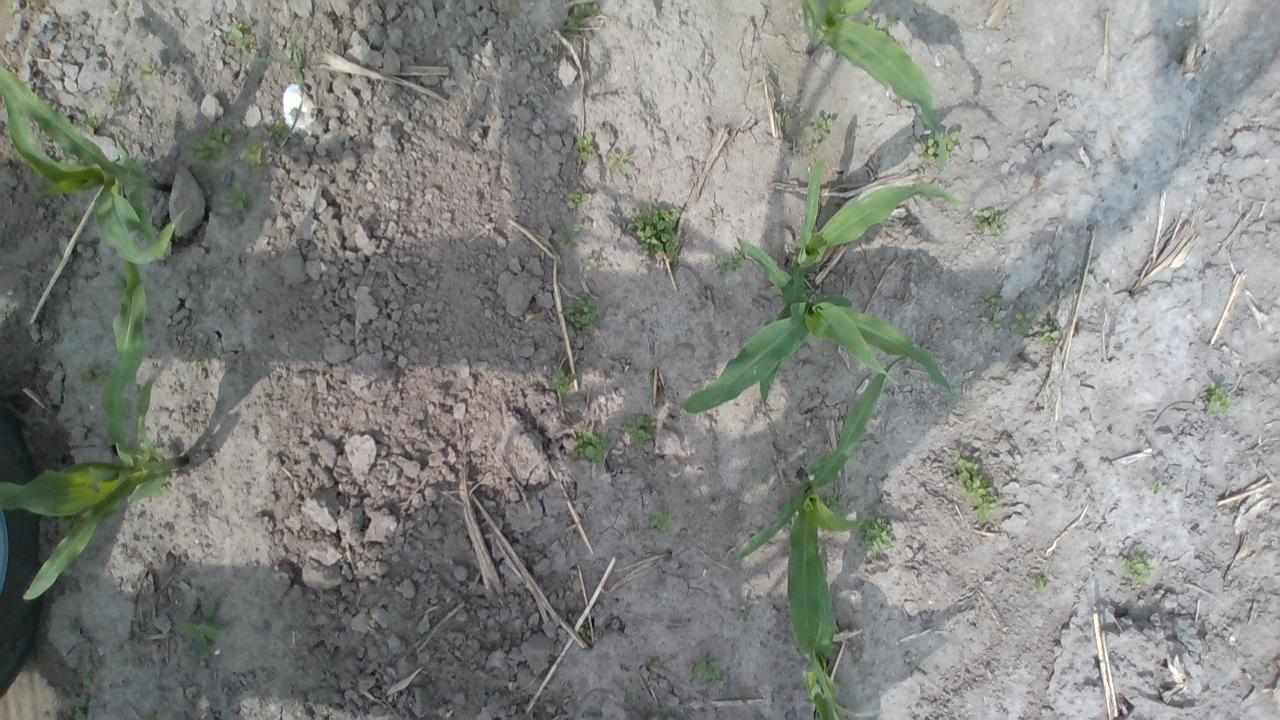Maize: (734, 355, 912, 720), (0, 261, 190, 602), (734, 154, 970, 414), (681, 228, 958, 416), (0, 62, 184, 266), (797, 0, 950, 186)
Weeds: (947, 448, 1003, 520), (622, 200, 681, 257), (174, 598, 226, 658), (185, 126, 239, 163), (856, 512, 896, 552), (1118, 546, 1156, 586), (560, 296, 603, 330), (222, 177, 258, 217), (919, 131, 961, 164), (574, 427, 610, 465), (559, 0, 598, 34), (622, 412, 658, 444), (228, 18, 258, 52), (686, 656, 721, 684), (289, 29, 305, 88), (1204, 379, 1230, 415), (546, 365, 580, 392), (976, 209, 1008, 236), (242, 139, 268, 170), (1009, 308, 1035, 336), (78, 105, 104, 132), (804, 115, 832, 139), (81, 363, 108, 385), (576, 134, 598, 160), (649, 507, 673, 529), (824, 489, 846, 513), (978, 292, 1004, 312), (719, 253, 746, 272), (80, 661, 98, 689), (556, 220, 580, 241), (103, 86, 127, 106), (564, 185, 589, 204), (266, 117, 290, 136), (610, 152, 630, 174), (110, 270, 128, 294), (61, 206, 79, 229), (74, 694, 89, 720), (60, 150, 83, 166), (140, 63, 157, 82), (1032, 574, 1048, 594), (980, 316, 1001, 330), (1041, 330, 1058, 346), (847, 648, 861, 665), (882, 16, 898, 30), (779, 110, 792, 126), (862, 16, 878, 28), (586, 250, 599, 264), (4, 0, 15, 15), (576, 626, 591, 636), (806, 140, 818, 152), (1152, 482, 1164, 494), (160, 481, 172, 492), (143, 711, 154, 720)
